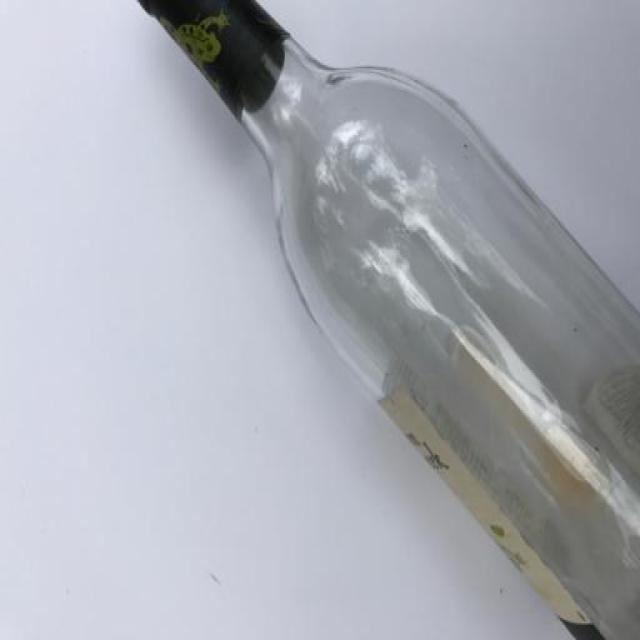glass bottle: (136, 0, 640, 640)
